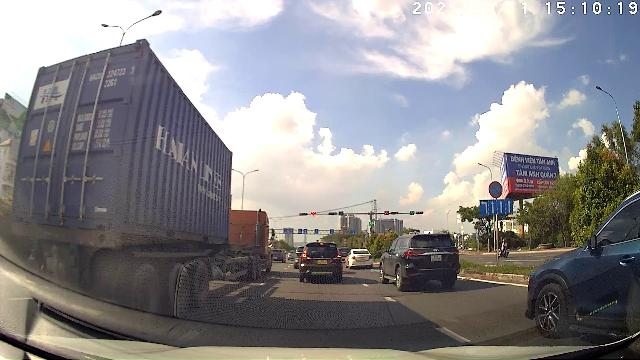131a-cam-do-xe: (488, 181, 503, 198)
